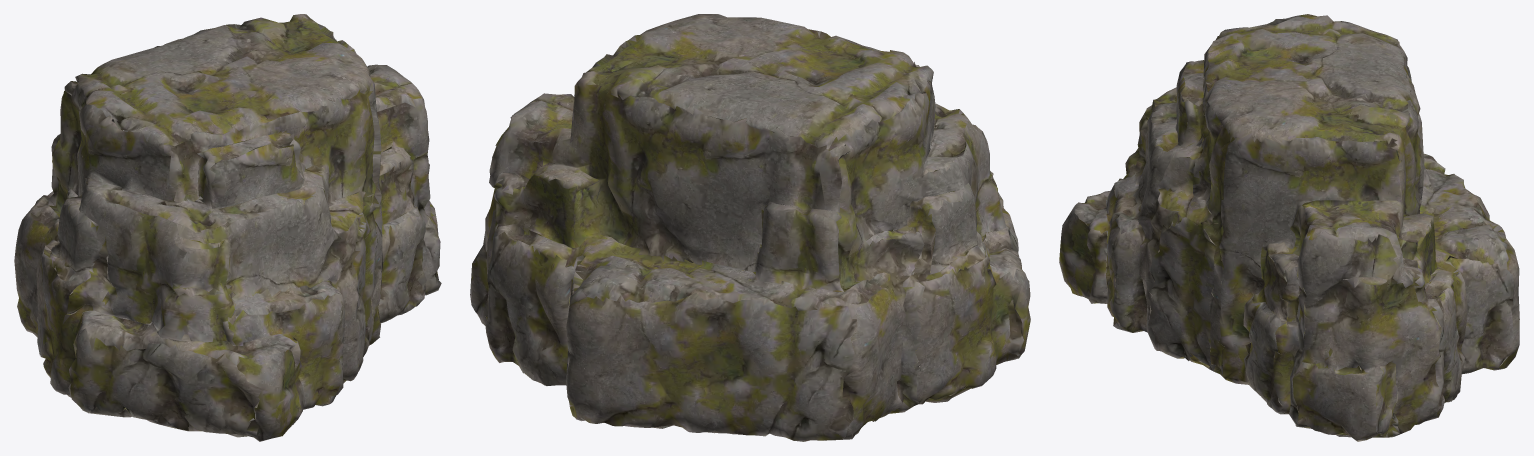
3 renders of one model, left to right at view 1: azimuth 30°, elevation 25°; view 2: azimuth 150°, elevation 25°; view 3: azimuth 270°, elevation 25°, orthographic. The views are drawn at different scales.
Visible parts, largest first — view 1: Cube.043; view 2: Cube.043; view 3: Cube.043.
Part boxes in pixels (x1,y1,x2,y2): Cube.043: (14,14,441,441); Cube.043: (470,14,1030,441); Cube.043: (1059,14,1519,441).
Size of the model in its own units: 6.62 by 4.08 by 6.3.
Materials: 1 (1 with a texture image).
